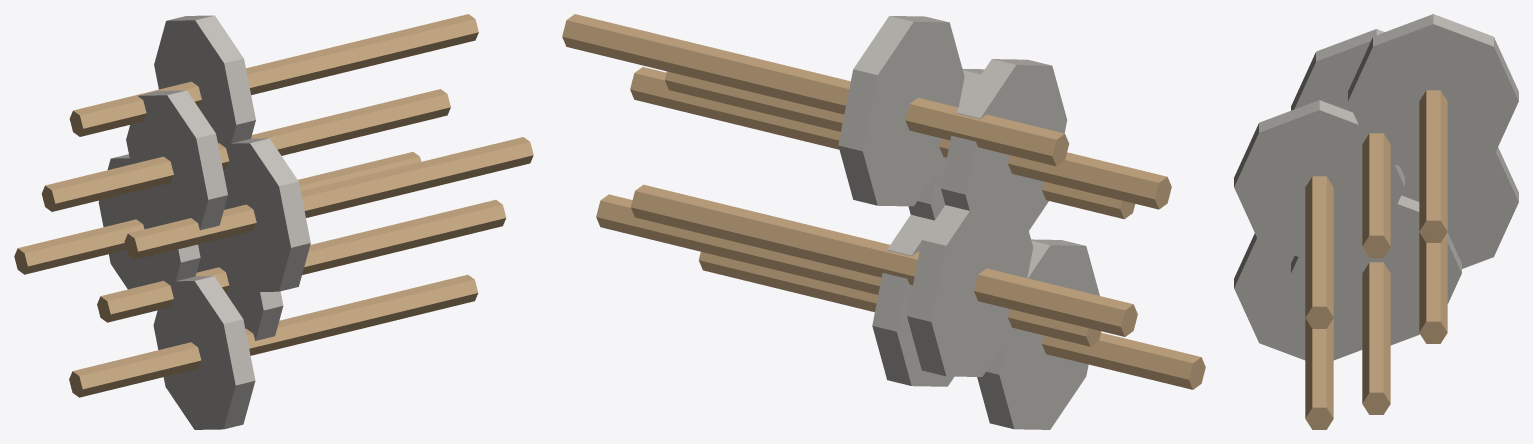
File: item_035_hand_spindle_l.glb
The picture shows the model from 3 angles, left to right: view 1: azimuth 30°, elevation 25°; view 2: azimuth 150°, elevation 25°; view 3: azimuth 270°, elevation 25°; orthographic projection. The views are drawn at different scales.
Visible parts, largest first — view 1: item_035_hand_spindle_l; view 2: item_035_hand_spindle_l; view 3: item_035_hand_spindle_l.
Boxes of the visible parts, x1=… form: item_035_hand_spindle_l: x1=14, y1=14, x2=533, y2=429; item_035_hand_spindle_l: x1=562, y1=14, x2=1205, y2=429; item_035_hand_spindle_l: x1=1234, y1=14, x2=1518, y2=429.
Size of the model in its own units: 0.57 by 0.43 by 0.3.
